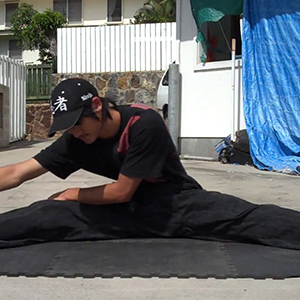person: (1, 78, 300, 259)
